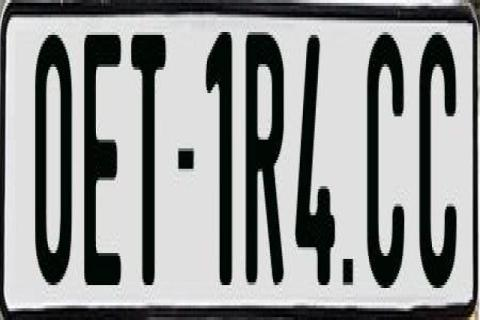0: (294, 29, 338, 282), (35, 32, 78, 288), (205, 24, 235, 282)
C: (366, 29, 405, 291), (417, 29, 454, 288)
E: (84, 35, 122, 299)
R: (245, 27, 285, 297)
T: (129, 29, 166, 297)
